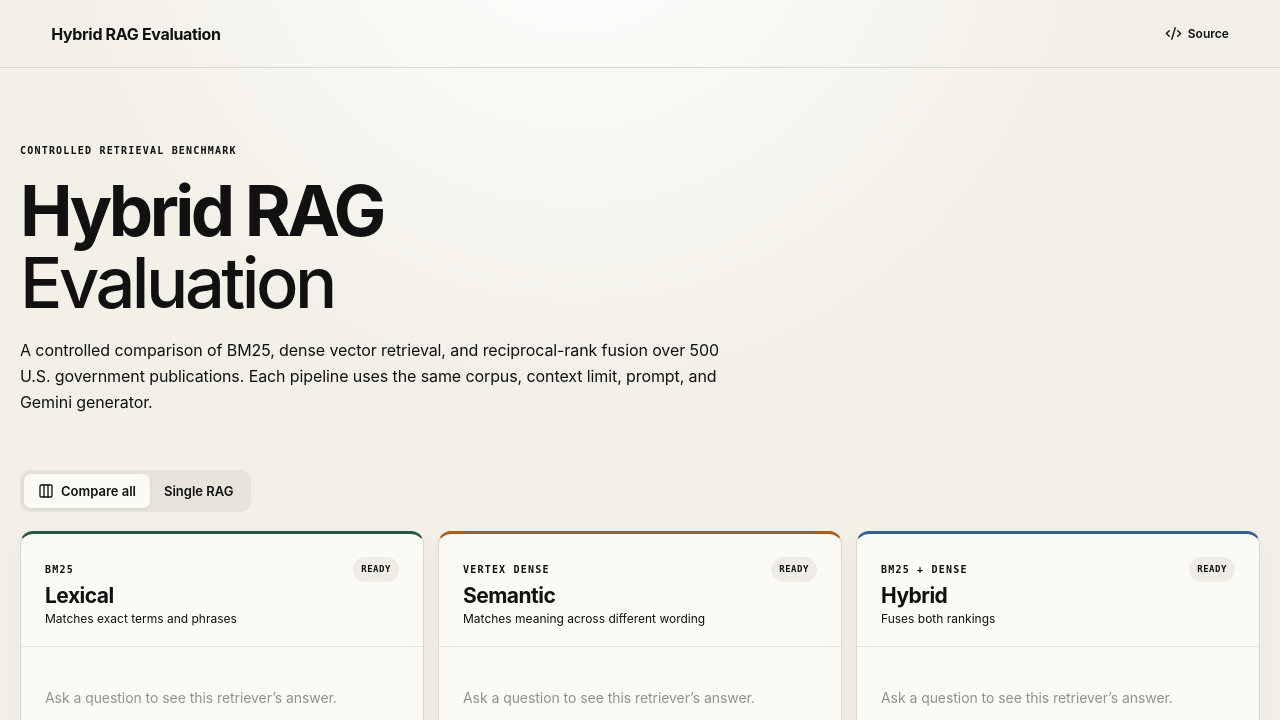
Test: Hybrid RAG Evaluation UI › switches to one selected RAG
Click the button "Single RAG".
click(199, 491)  # box [150, 474, 248, 508]
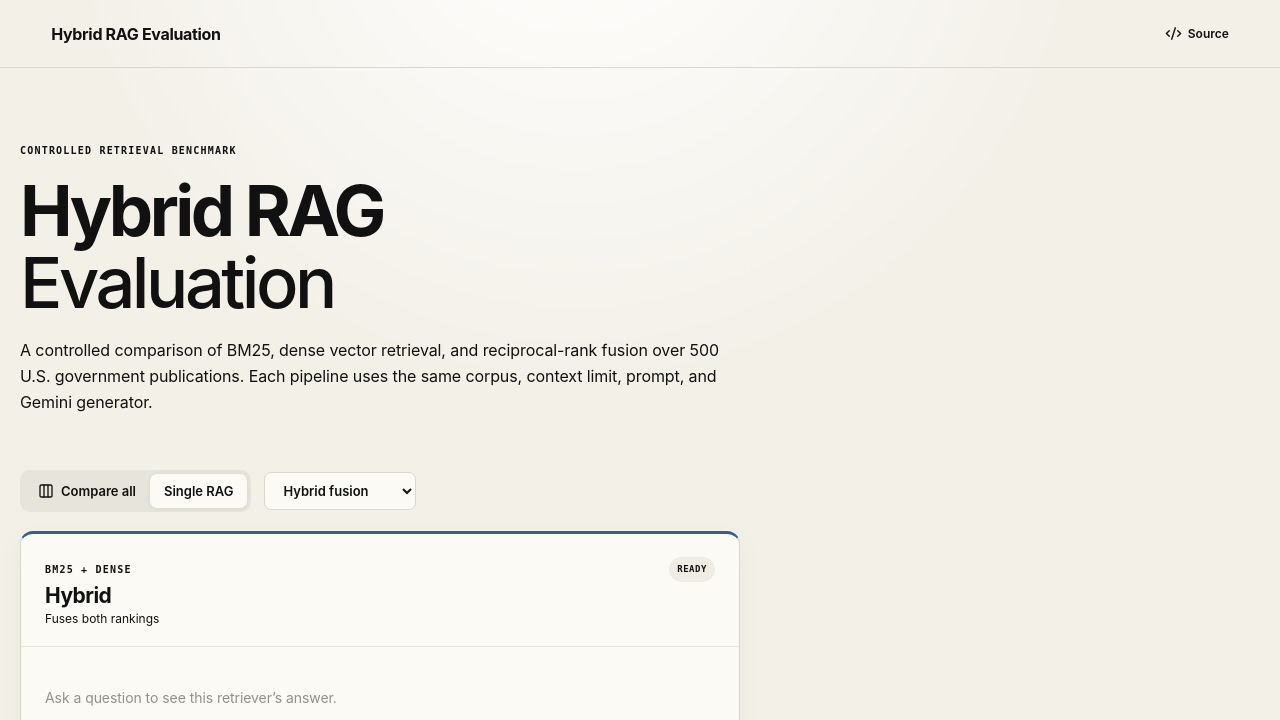
Now the dropdown named "RAG mode" is shown, box [264, 472, 416, 510]
